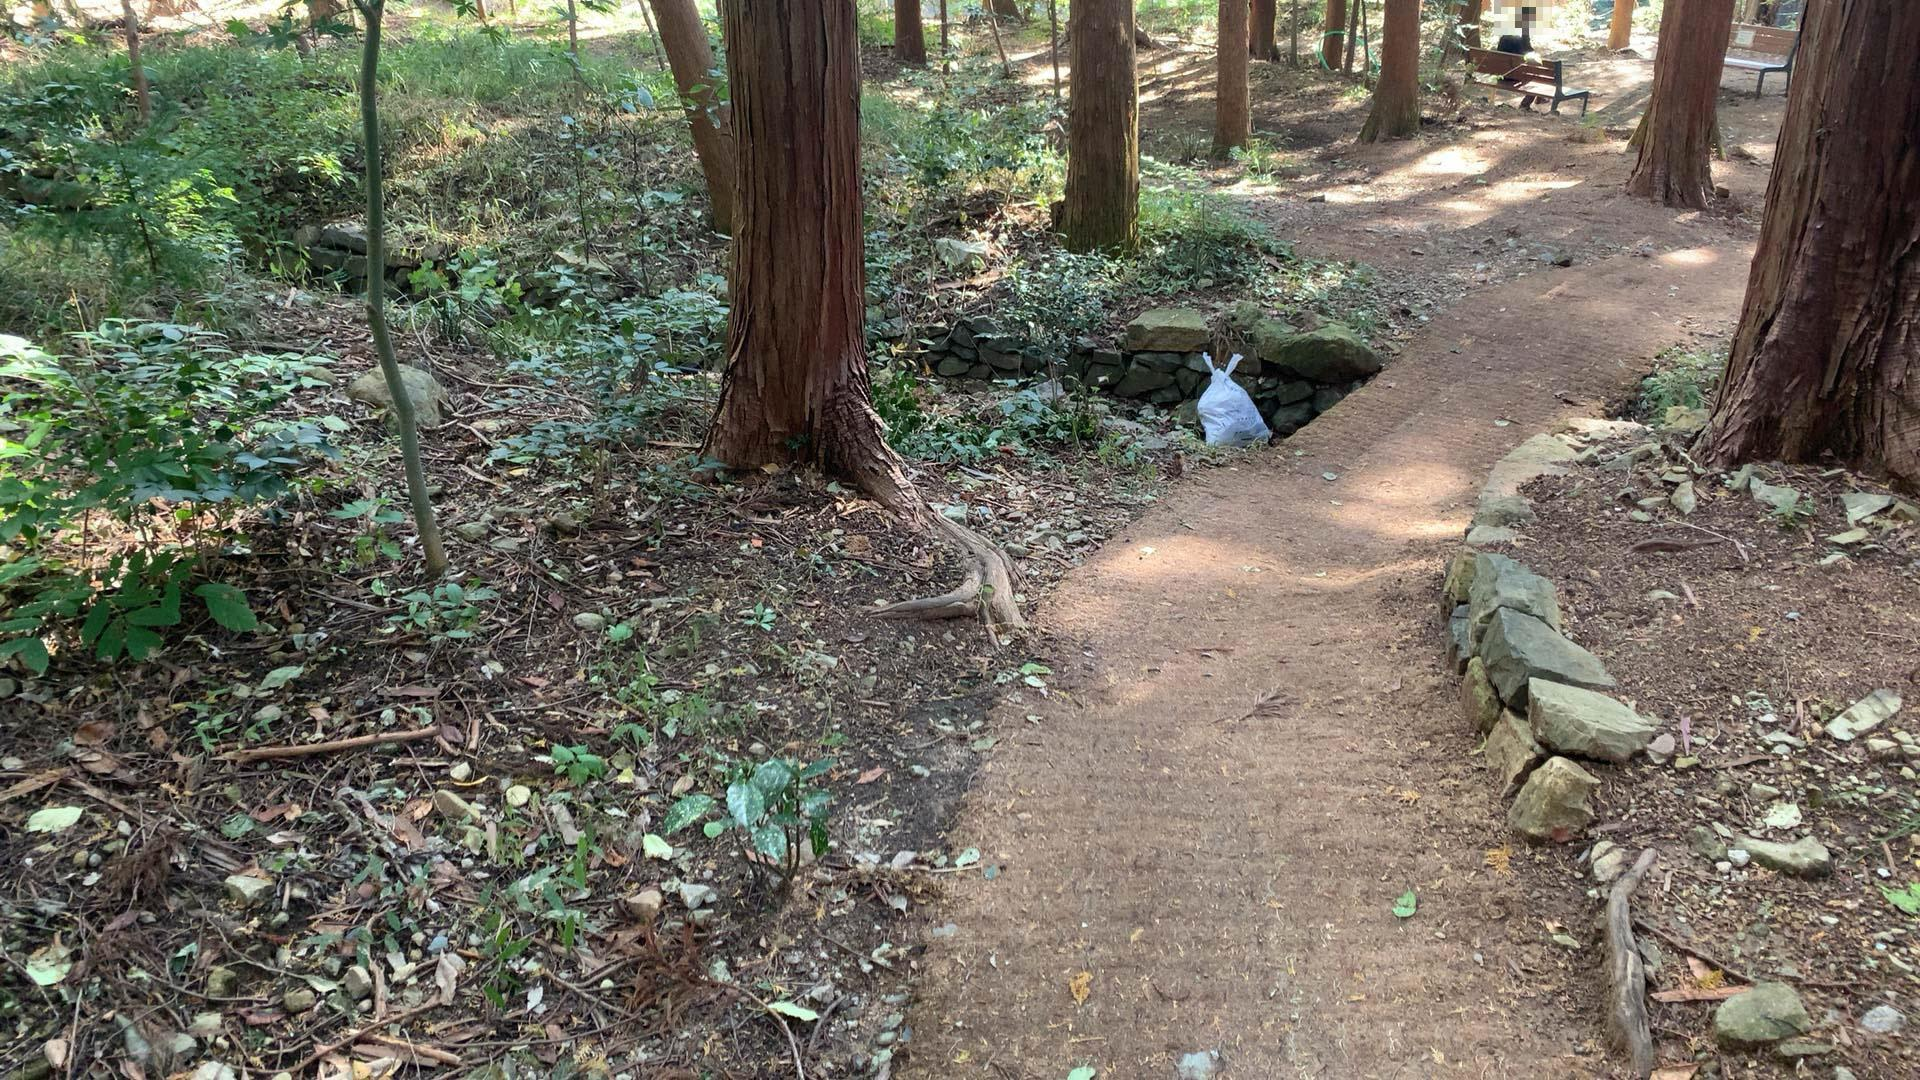white_bag: (1182, 342, 1288, 460)
